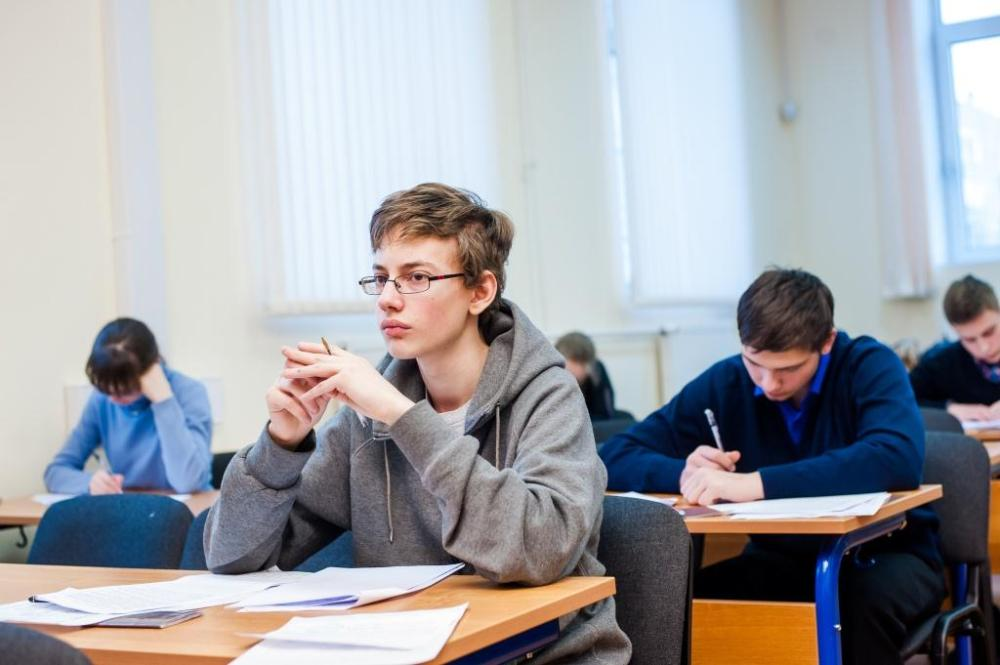students: (203, 180, 633, 664), (595, 269, 941, 660), (43, 317, 216, 496), (911, 276, 1000, 424), (551, 332, 616, 414)
